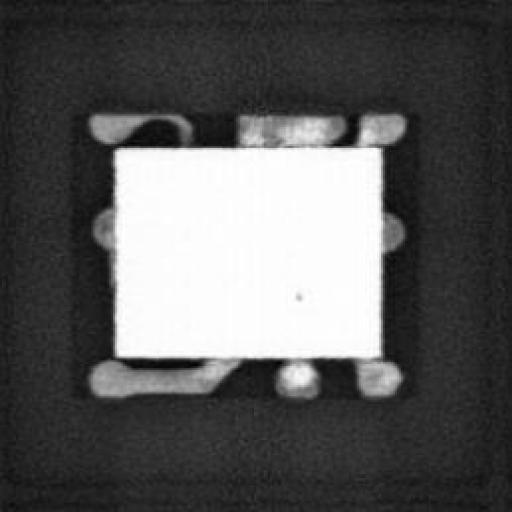DIE_INK: (288, 284, 304, 302)
